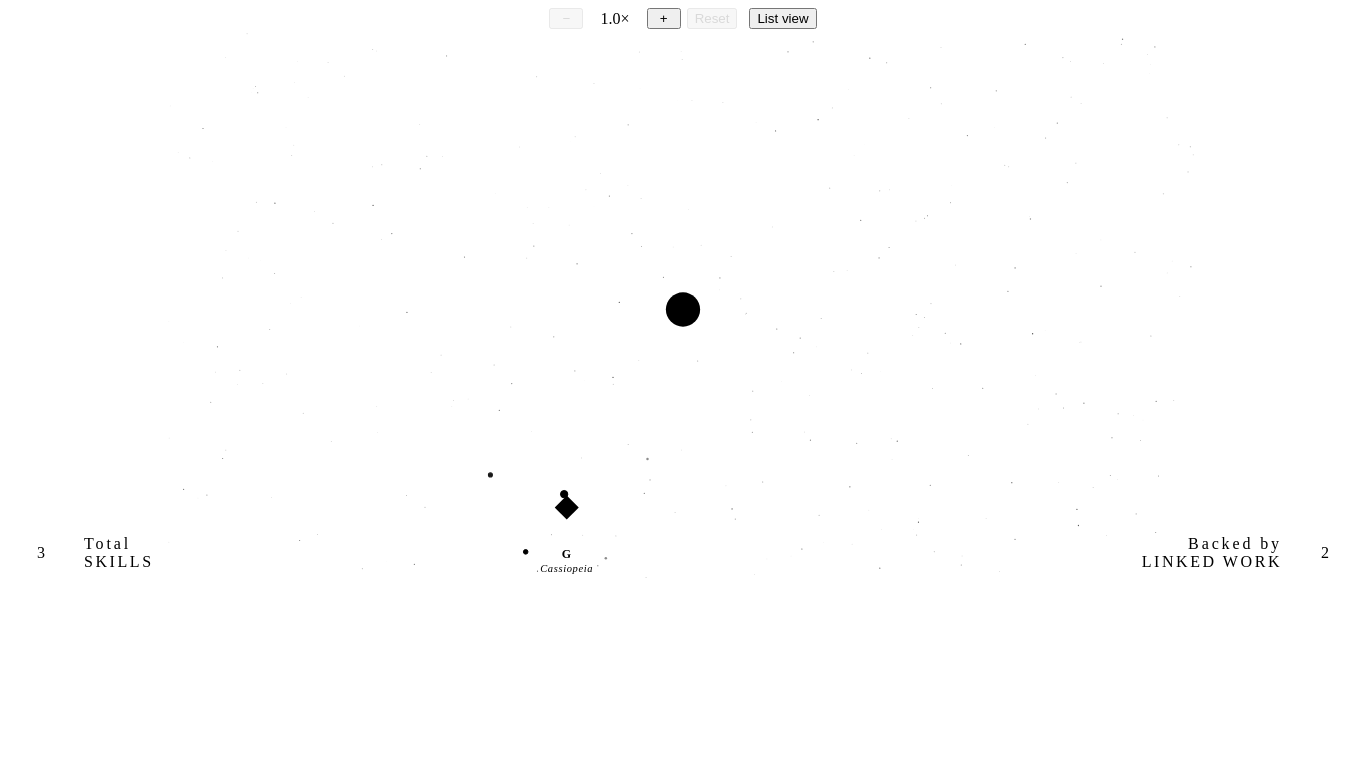
Test: skills screen › zooms with the buttons and resets
Click the button named "Zoom in".
click(664, 18)  # box [647,8,681,29]
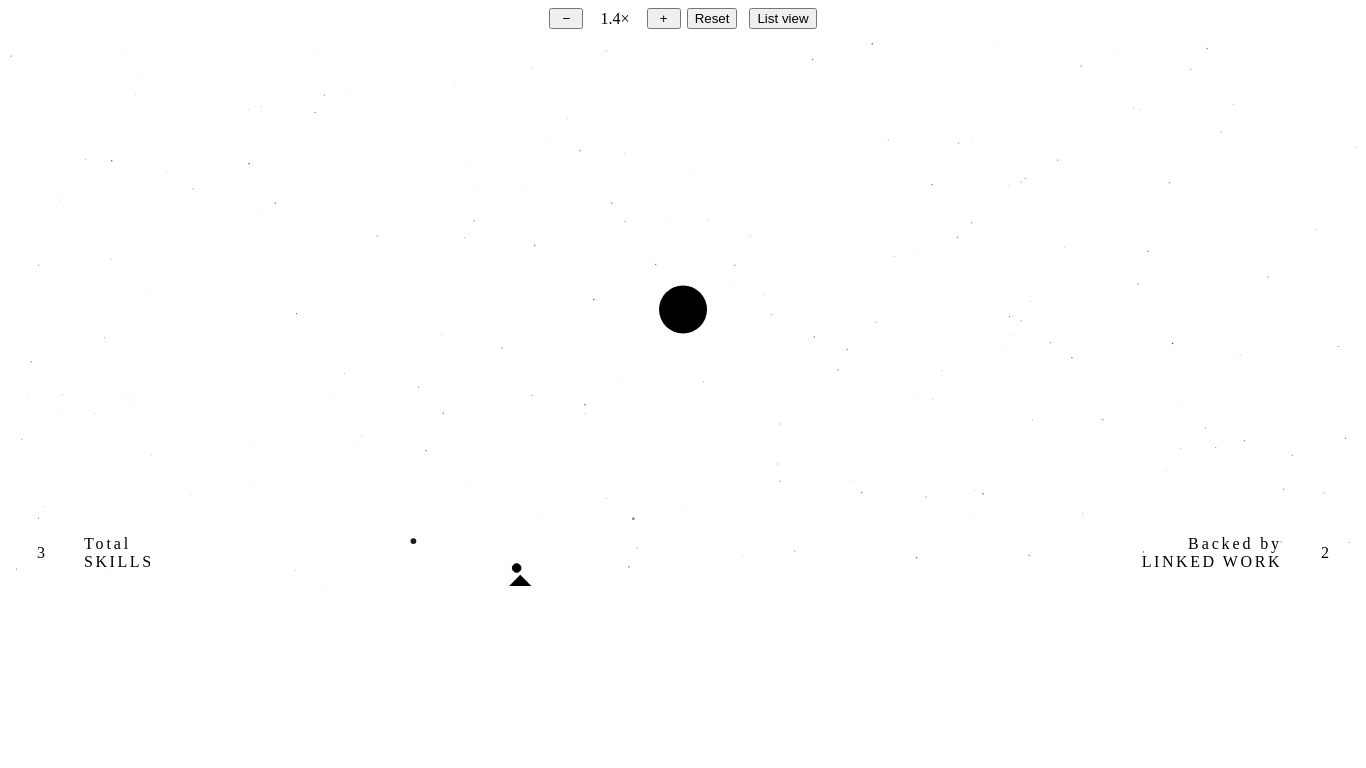
Click the button with aria-label "Reset zoom".
click(712, 18)  # box [687,8,737,29]
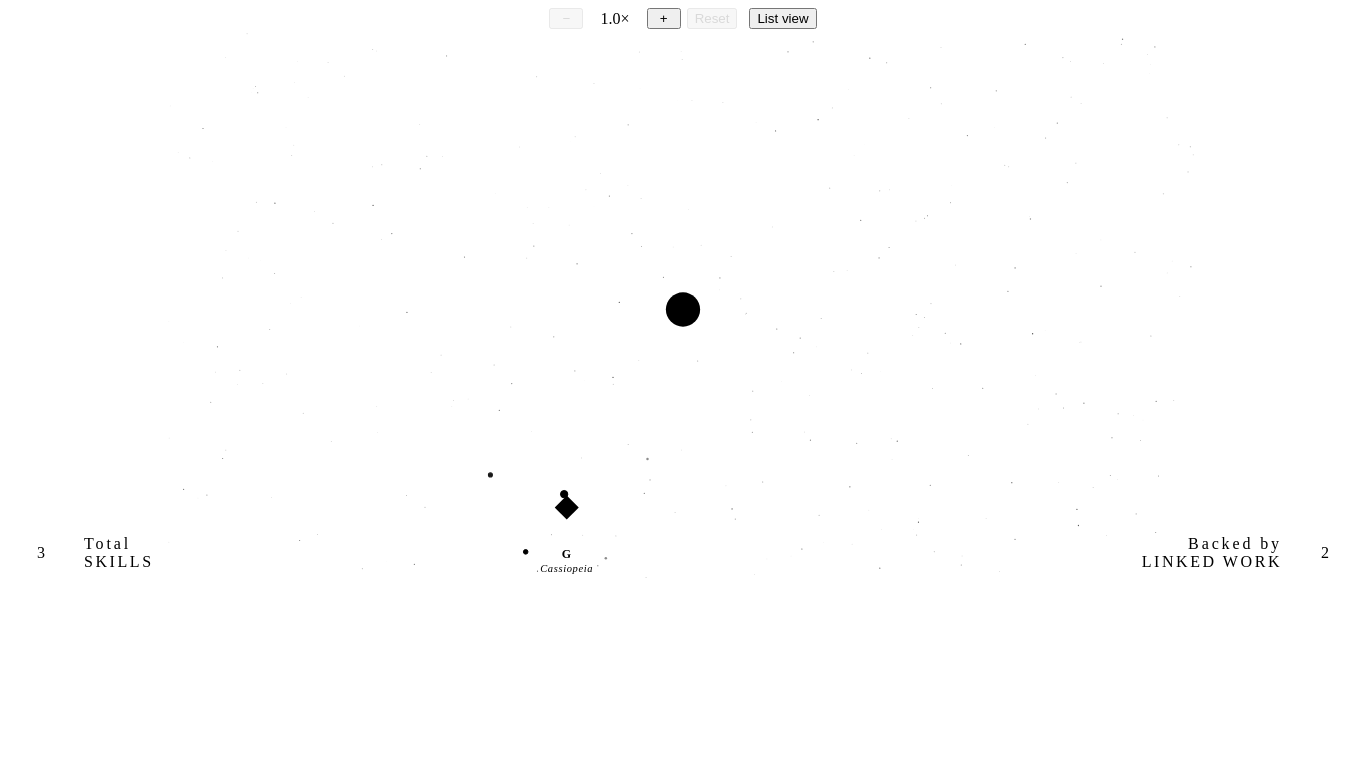
Expected: the icon with class "sky" has attribute data-zoom="1.0"
